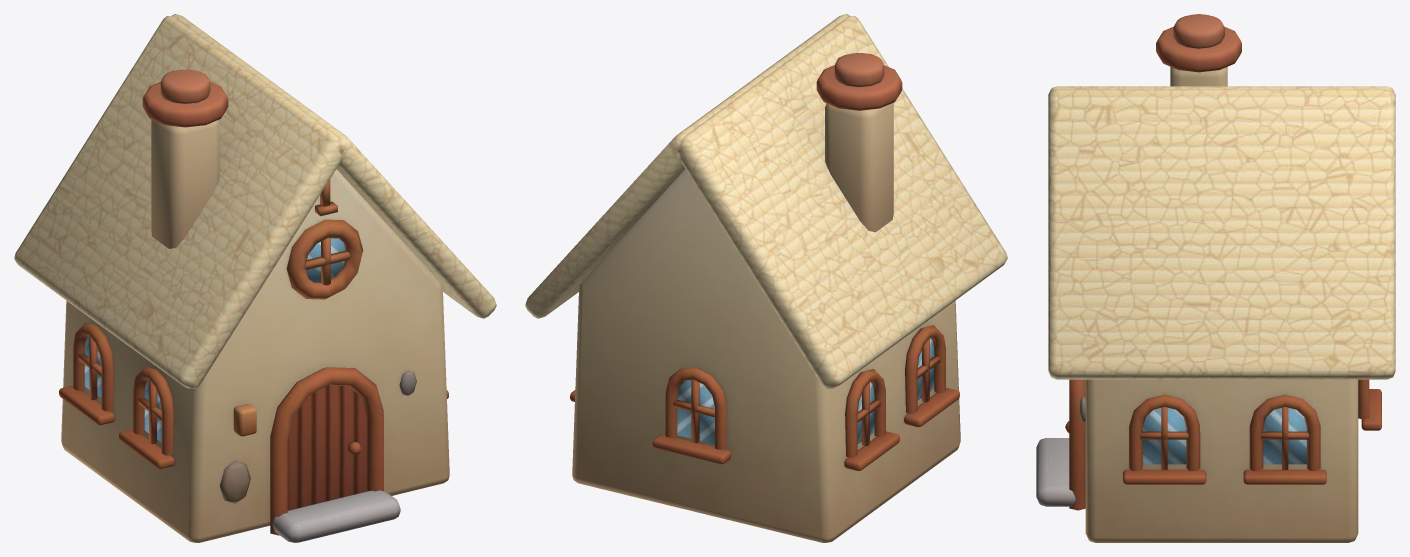
The model's file is hut_mid.glb.
3 views of the same model, side by side, from view 1: azimuth 30°, elevation 25°; view 2: azimuth 150°, elevation 25°; view 3: azimuth 270°, elevation 25° (orthographic).
Visible parts, largest first — view 1: hut; view 2: hut; view 3: hut.
Part boxes in pixels (x1=…): hut: x1=14, y1=14, x2=496, y2=542; hut: x1=525, y1=14, x2=1007, y2=542; hut: x1=1036, y1=14, x2=1395, y2=542.
Bounding box in the file's own units: 1.28 × 1.62 × 1.25.
Materials: 1 (1 with a texture image).
